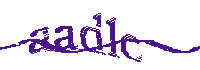a: (25, 25, 52, 54), (53, 23, 80, 52)
c: (119, 31, 145, 62)
d: (82, 11, 104, 57)
l: (106, 15, 119, 61)
